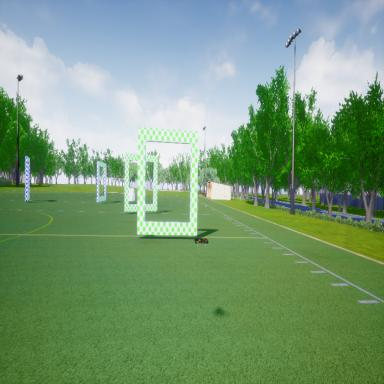gate: (136, 119, 200, 247), (122, 149, 160, 217), (95, 156, 110, 207)
